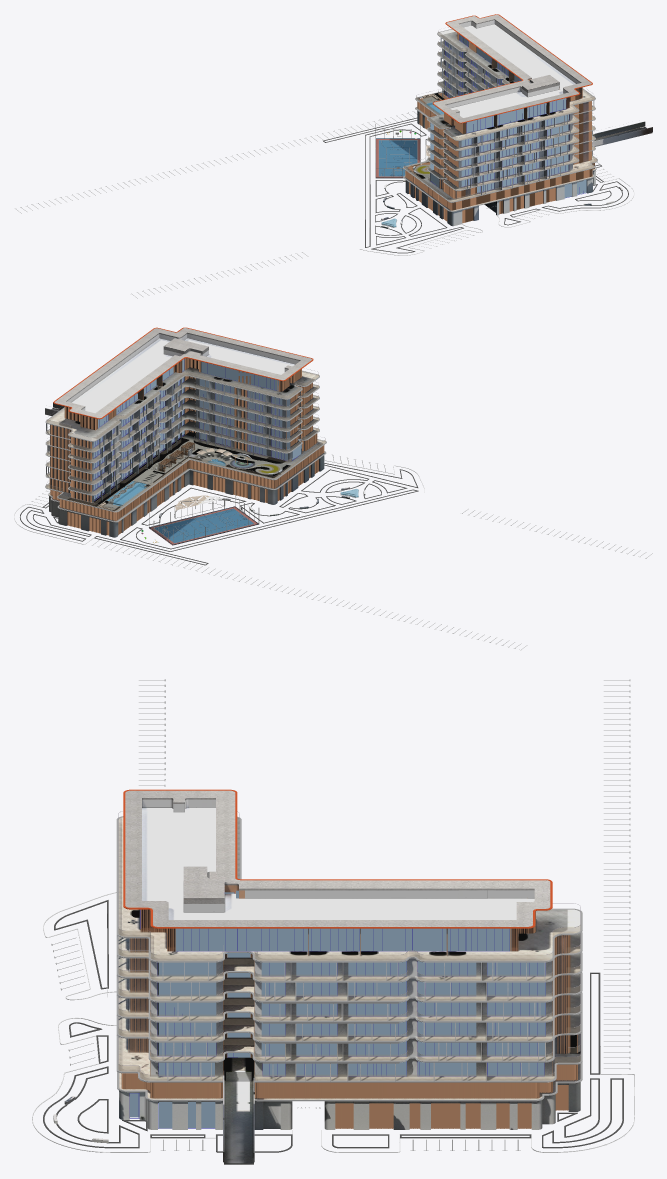
The model's file is MAG_11_build_A.glb.
The picture shows the model from 3 angles, top to bottom: view 1: azimuth 30°, elevation 25°; view 2: azimuth 150°, elevation 25°; view 3: azimuth 270°, elevation 25°; orthographic projection. The views are drawn at different scales.
Visible parts, largest first — view 1: A_Build; view 2: A_Build; view 3: A_Build.
Boxes of the visible parts, bbox=[...] form: A_Build: bbox=[15, 14, 652, 298]; A_Build: bbox=[14, 327, 652, 650]; A_Build: bbox=[32, 679, 634, 1164].
Bounding box in the file's own units: 236 × 43.1 × 115.
24 materials, 3 textured.
